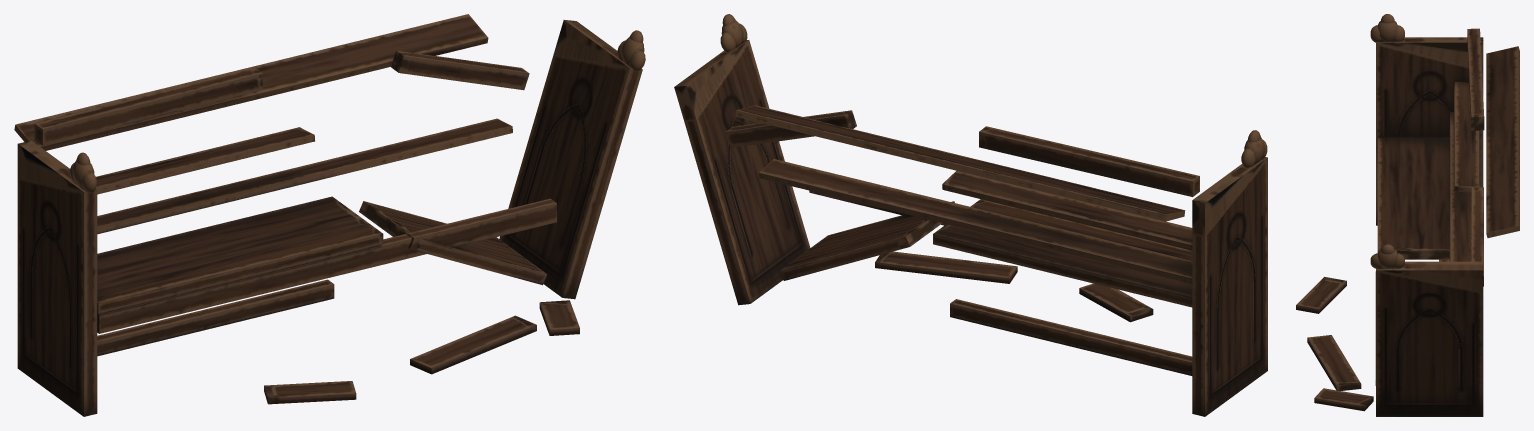
Rendered from cathedral_pew.glb.
3 views of the same model, side by side, from view 1: azimuth 30°, elevation 25°; view 2: azimuth 150°, elevation 25°; view 3: azimuth 270°, elevation 25° (orthographic). The views are drawn at different scales.
Parts seen in each view (by area): view 1: cathedral_pew; view 2: cathedral_pew; view 3: cathedral_pew.
Part boxes in pixels (bbox=[...]): cathedral_pew: bbox=[14, 14, 645, 416]; cathedral_pew: bbox=[674, 14, 1267, 416]; cathedral_pew: bbox=[1296, 14, 1519, 416].
Size of the model in its own units: 2.54 by 1.11 by 1.07.
1 material, 1 textured.
